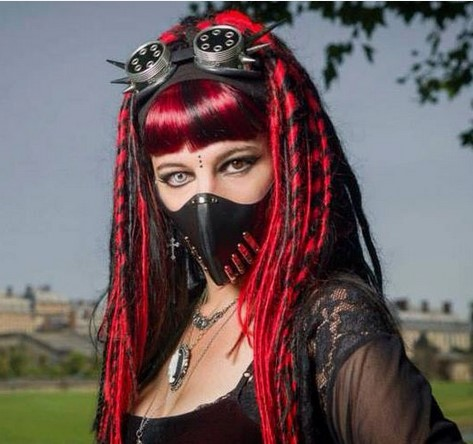face_with_mask: (105, 11, 322, 302)
